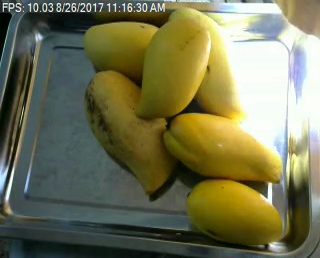Mango: (85, 70, 179, 195), (169, 6, 248, 121), (164, 113, 282, 182), (136, 17, 210, 115), (187, 178, 284, 243), (84, 22, 161, 84)
